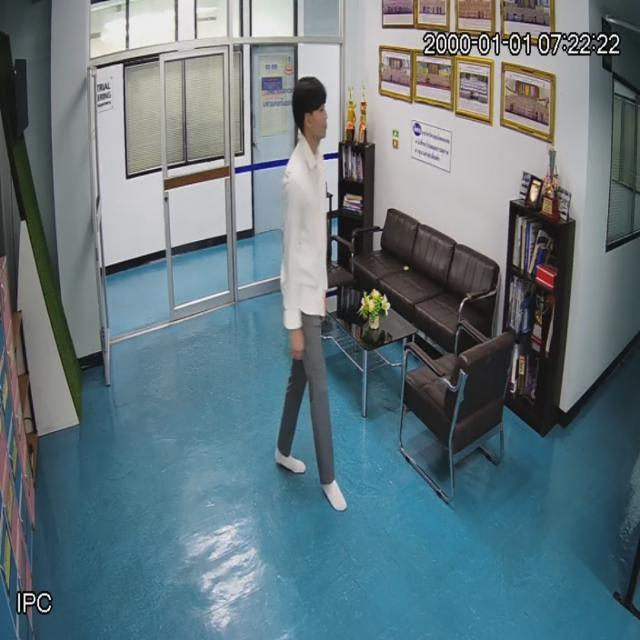normal: (277, 76, 342, 491)
